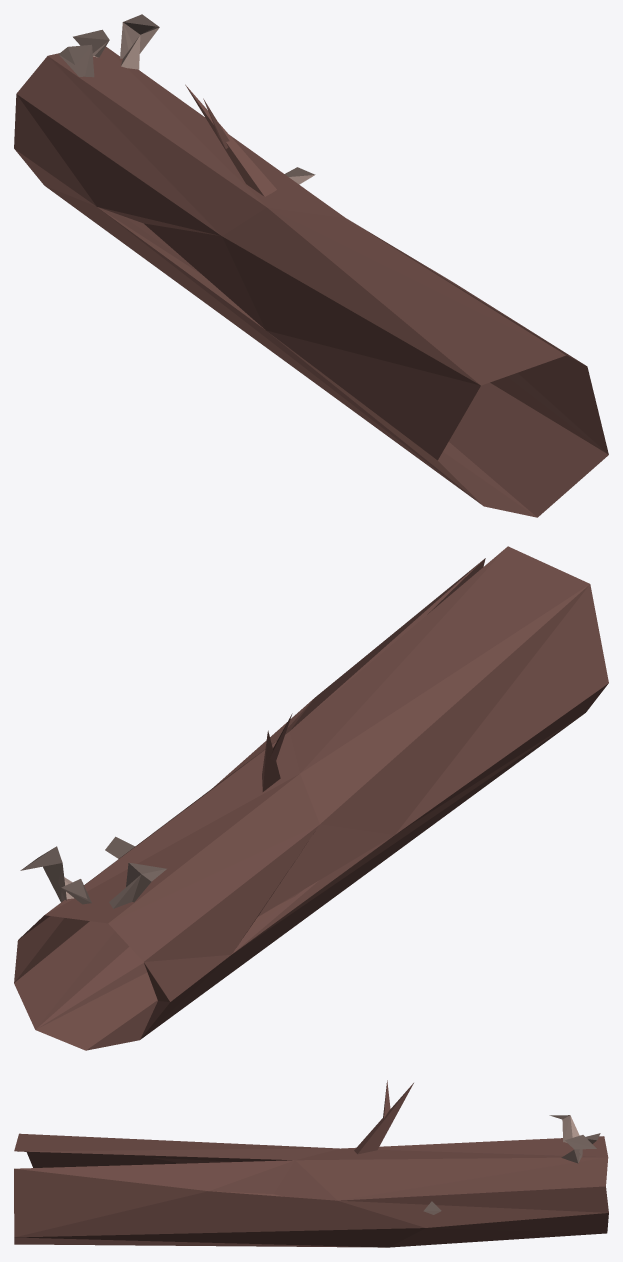
The model's file is WoodLog.lod2.glb.
3 renders of one model, top to bottom at view 1: azimuth 30°, elevation 25°; view 2: azimuth 150°, elevation 25°; view 3: azimuth 270°, elevation 25°, orthographic. The views are drawn at different scales.
Parts seen in each view (by area): view 1: WoodLog; view 2: WoodLog; view 3: WoodLog.
Part boxes in pixels (x1,y1,x2,y2): WoodLog: (14,14,608,517); WoodLog: (14,546,608,1050); WoodLog: (14,1080,608,1247).
Size of the model in its own units: 0.6026 by 0.735 by 2.67.
